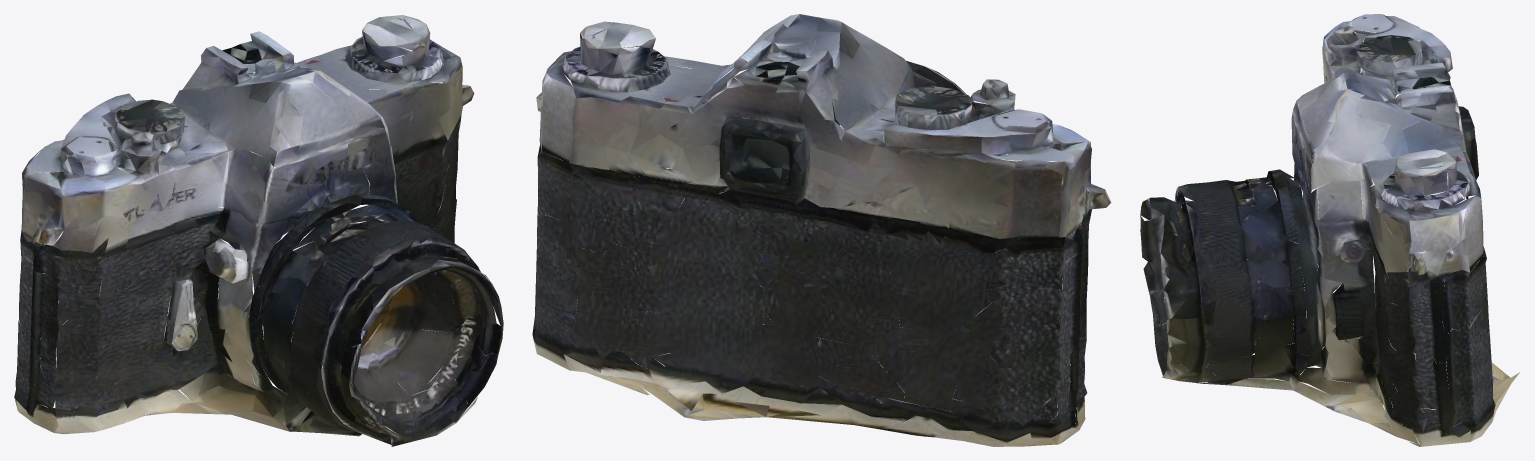
The model's file is item_camera.glb.
The picture shows the model from 3 angles, left to right: view 1: azimuth 30°, elevation 25°; view 2: azimuth 150°, elevation 25°; view 3: azimuth 270°, elevation 25°; orthographic projection. The views are drawn at different scales.
Visible parts, largest first — view 1: camera; view 2: camera; view 3: camera.
Part boxes in pixels (left/top/right/bottom): camera: left=14, top=15, right=503, bottom=446; camera: left=532, top=14, right=1111, bottom=446; camera: left=1140, top=14, right=1519, bottom=446.
Bounding box in the file's own units: 0.2 × 0.1229 × 0.1479.
1 material, 1 textured.
